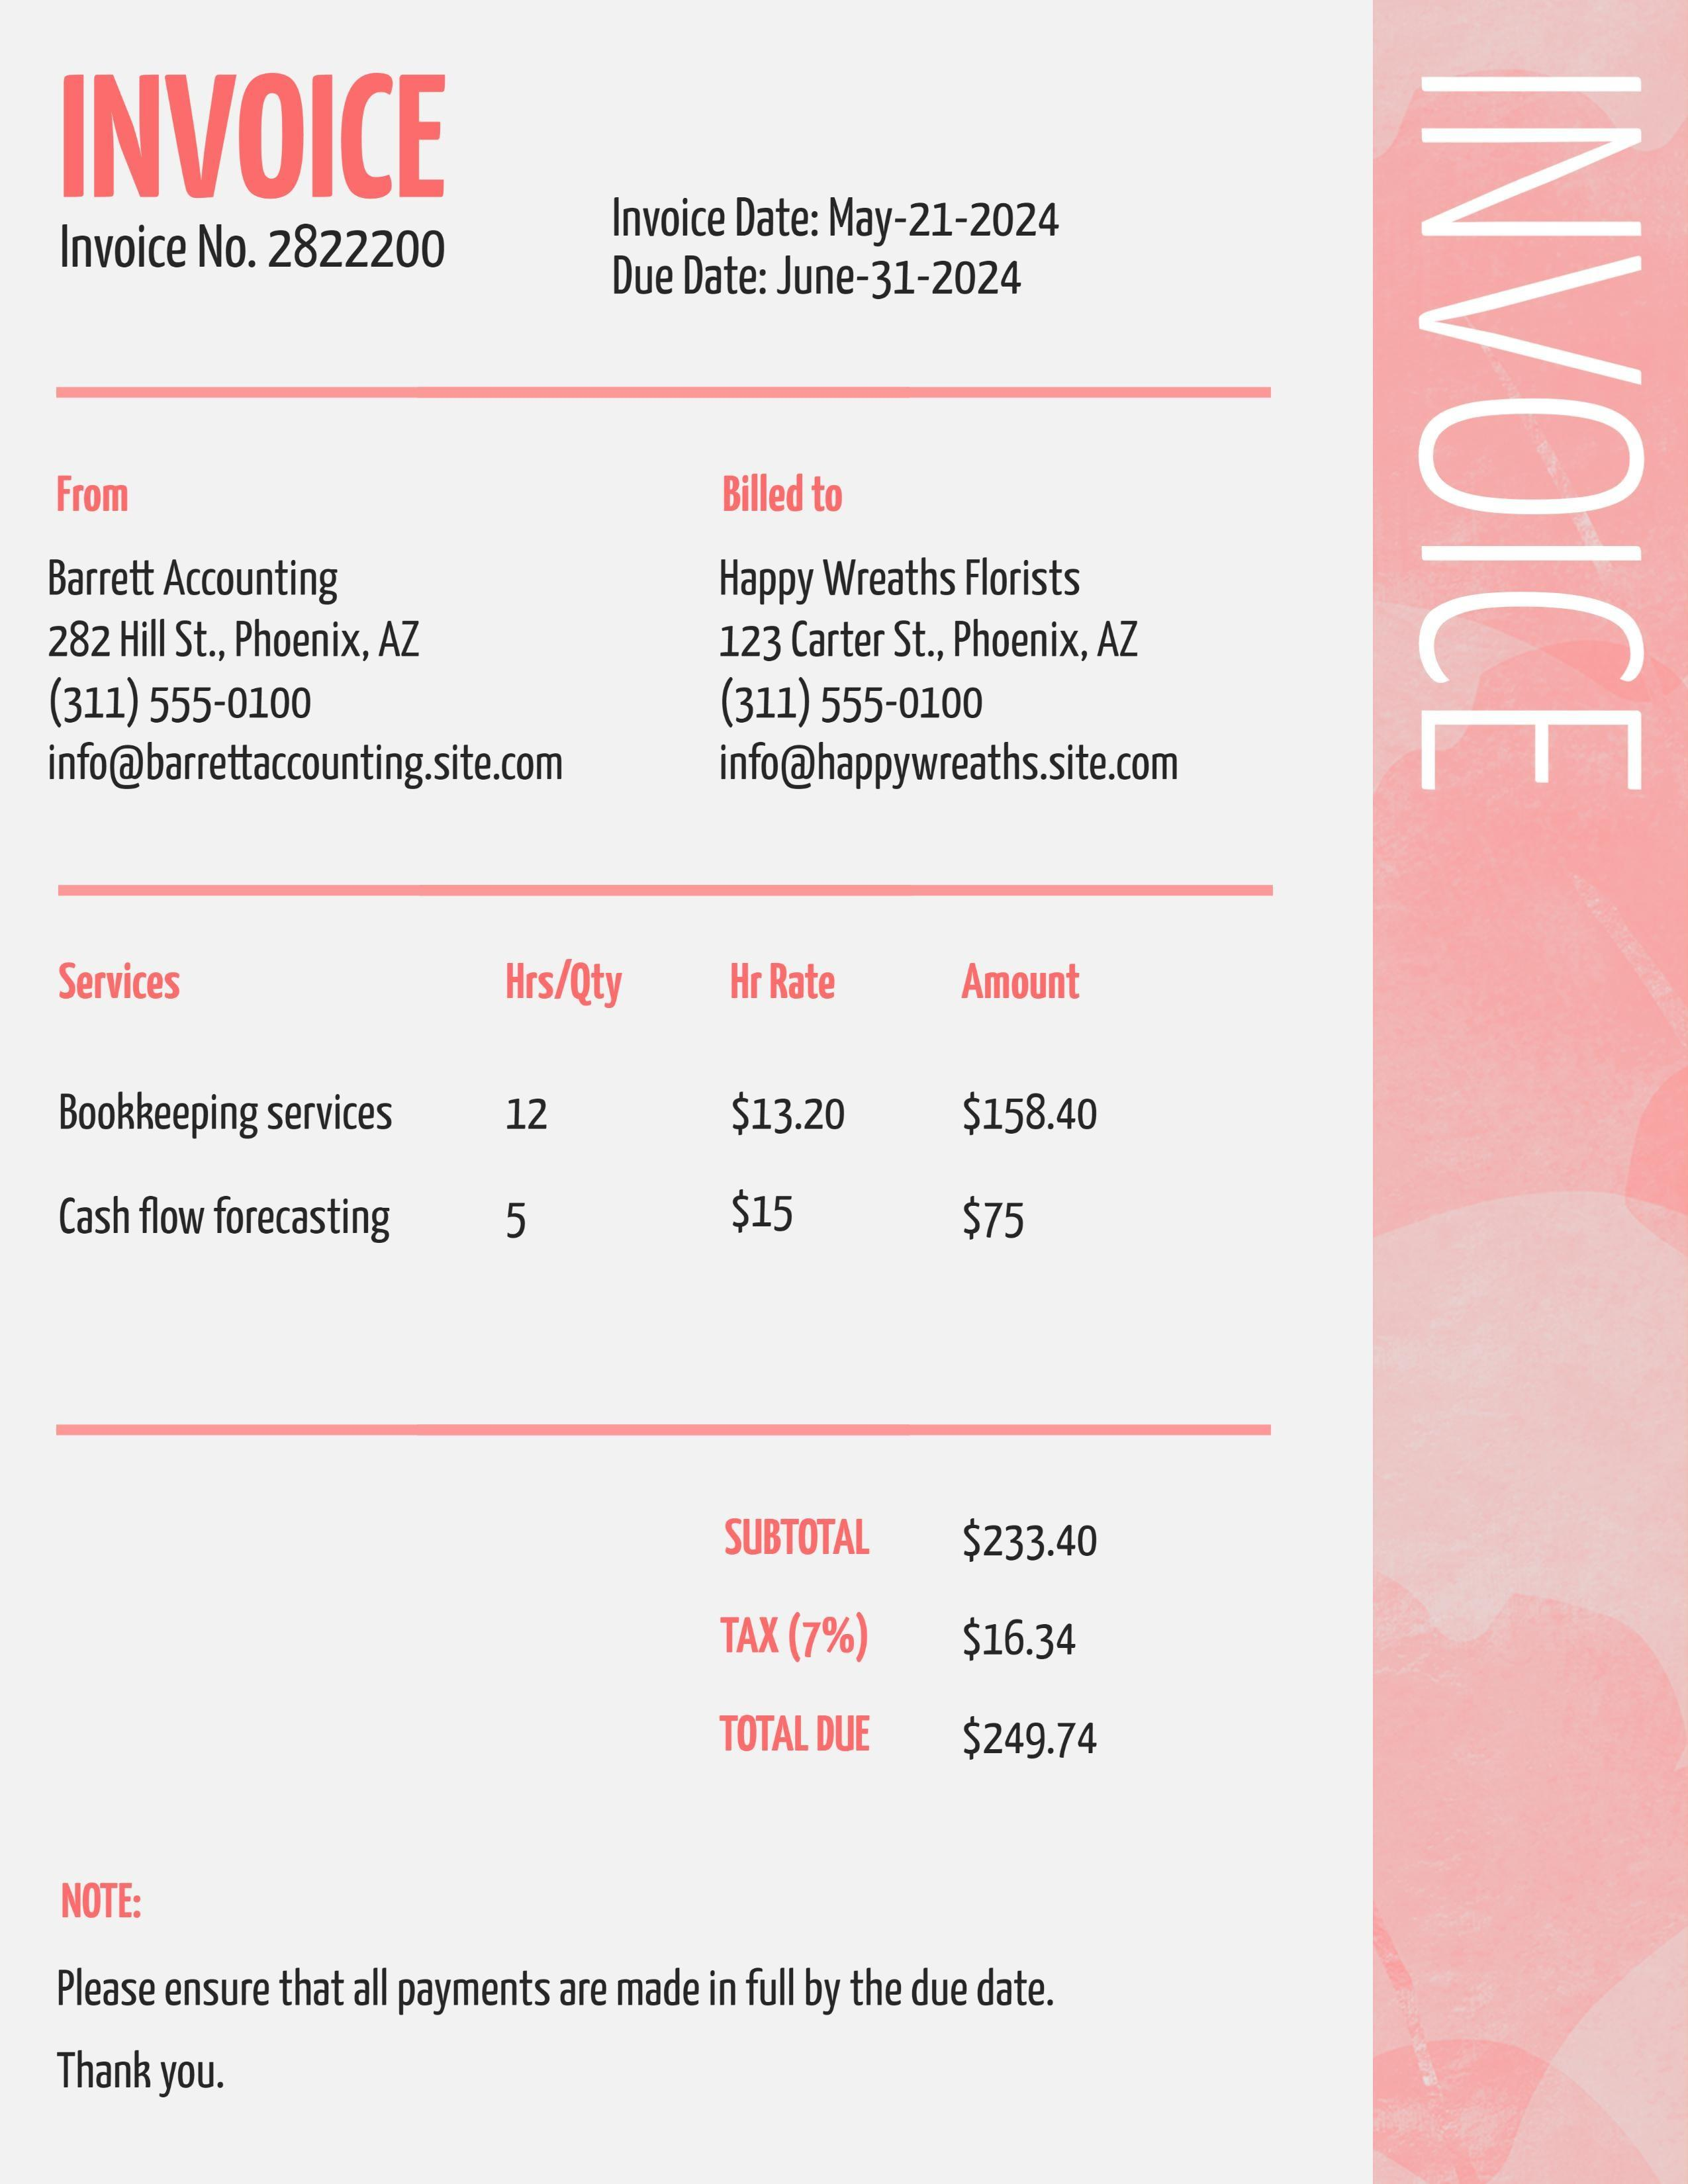ROI: (43, 953, 1218, 1251), (40, 433, 612, 821), (695, 440, 1205, 817), (53, 1959, 1099, 2108), (36, 185, 1076, 328), (712, 1499, 1145, 1770)
